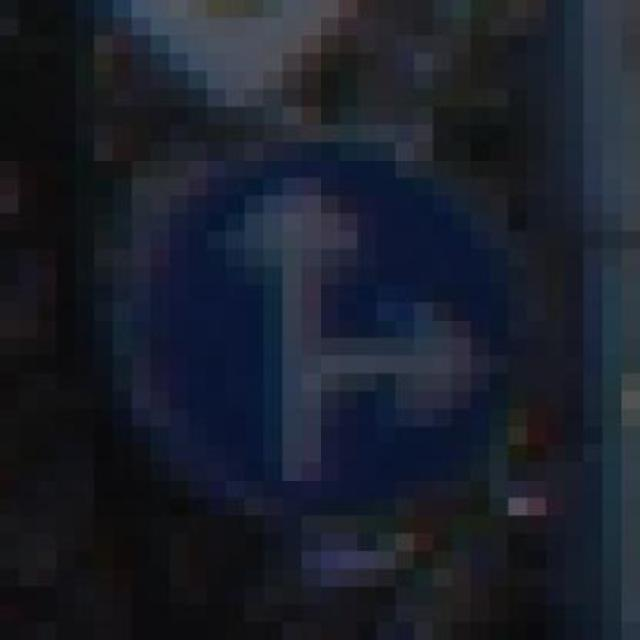Go Straight or Turn Right: (57, 142, 566, 533)
